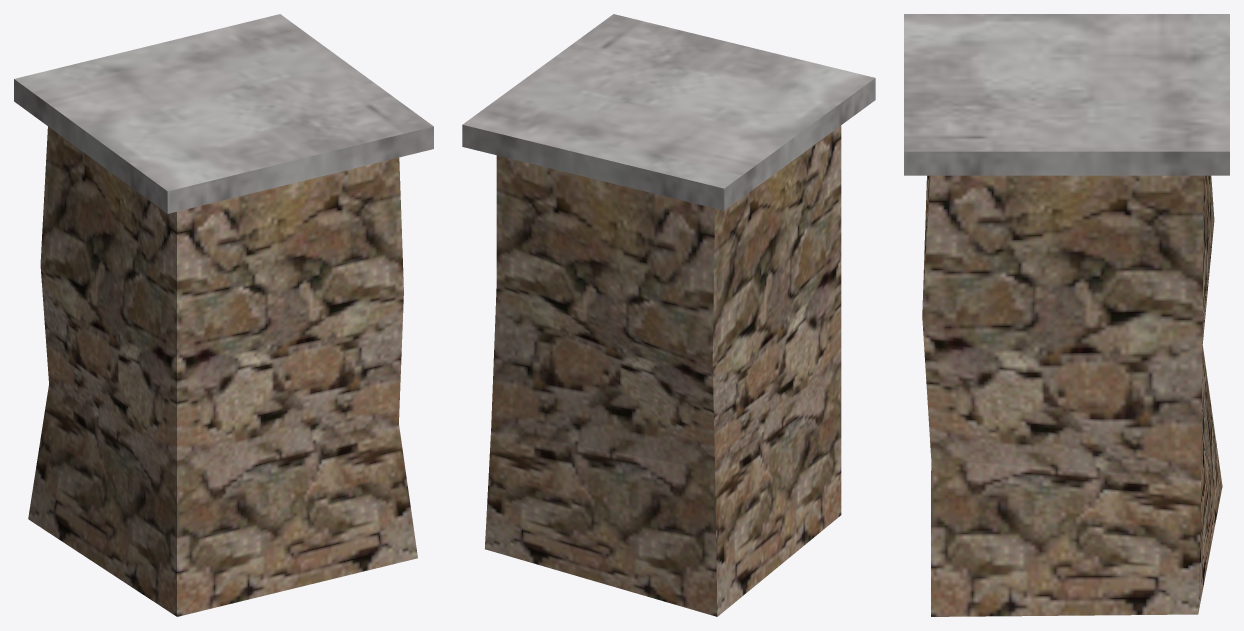
File: Urban_DrystoneColumnCapped_Model.fbx
The picture shows the model from 3 angles, left to right: view 1: azimuth 30°, elevation 25°; view 2: azimuth 150°, elevation 25°; view 3: azimuth 270°, elevation 25°; orthographic projection. The views are drawn at different scales.
Parts seen in each view (by area): view 1: Urban_DrystoneColumnCapped_Mesh; view 2: Urban_DrystoneColumnCapped_Mesh; view 3: Urban_DrystoneColumnCapped_Mesh.
Part boxes in pixels (x1,y1,x2,y2): Urban_DrystoneColumnCapped_Mesh: [14, 14, 433, 616]; Urban_DrystoneColumnCapped_Mesh: [462, 14, 875, 616]; Urban_DrystoneColumnCapped_Mesh: [904, 14, 1229, 616].
Bounding box in the file's own units: 0.6 × 0.9486 × 0.6.
